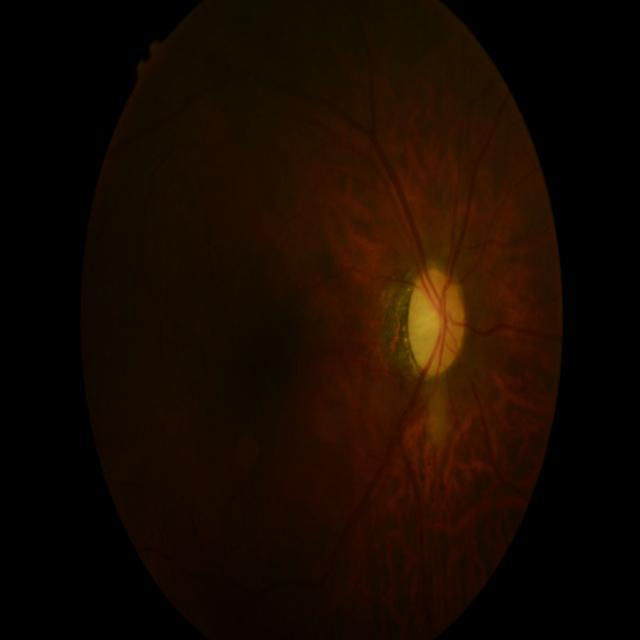cup: (409, 277, 455, 368)
disk: (408, 268, 464, 376)
